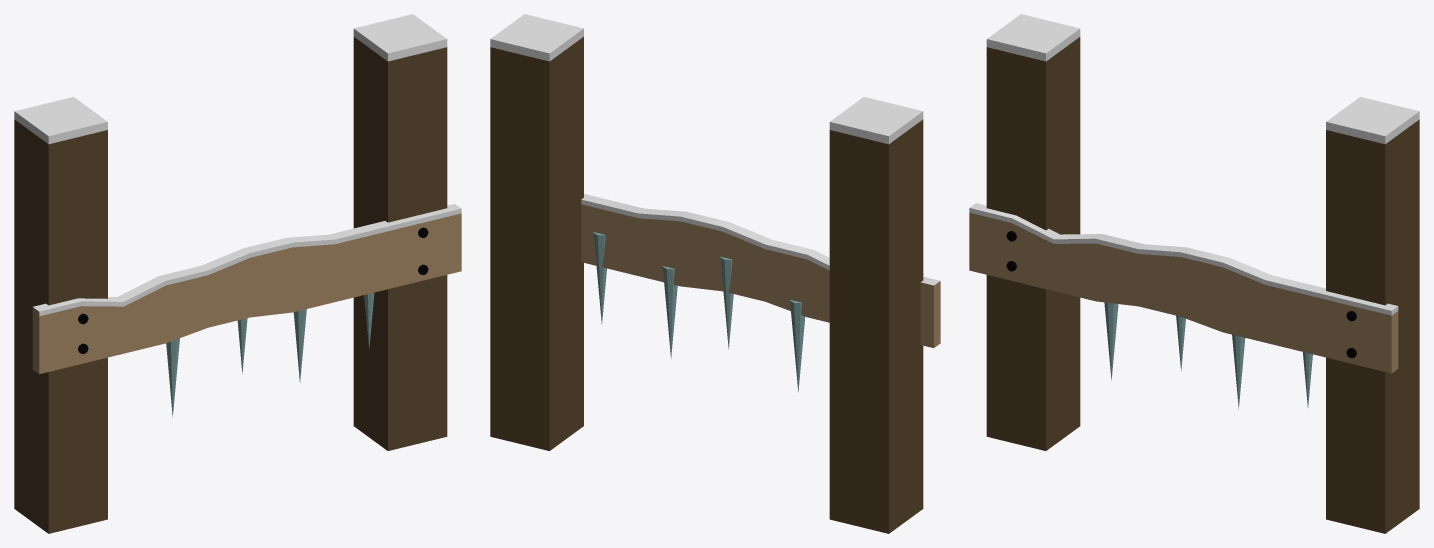
Rendered from snow_fence_one.fbx.
The picture shows the model from 3 angles, left to right: view 1: azimuth 30°, elevation 25°; view 2: azimuth 150°, elevation 25°; view 3: azimuth 330°, elevation 25°; orthographic projection.
Visible parts, largest first — view 1: pCube22; view 2: pCube22; view 3: pCube22.
Boxes of the visible parts, x1,y1,x2,y2 form: pCube22: (14, 14, 461, 533); pCube22: (490, 14, 940, 533); pCube22: (969, 14, 1419, 533).
Size of the model in its own units: 1.26 by 1.13 by 0.2055.
